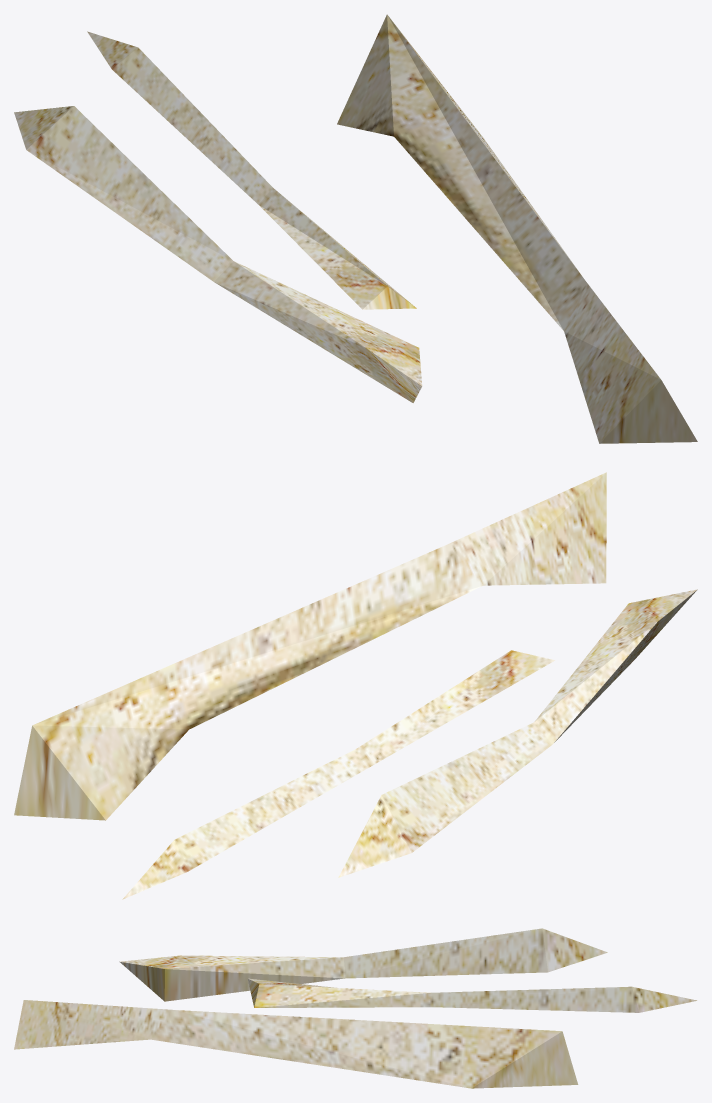
Rendered from poi_tato_skel_krayt_arm_s02_l2.fbx.
3 views of the same model, one above another, from view 1: azimuth 30°, elevation 25°; view 2: azimuth 150°, elevation 25°; view 3: azimuth 270°, elevation 25° (orthographic). The views are drawn at different scales.
Visible parts, largest first — view 1: mesh_node; view 2: mesh_node; view 3: mesh_node.
Boxes of the visible parts, <box> form: mesh_node: <box>14,14,697,443</box>; mesh_node: <box>14,472,697,899</box>; mesh_node: <box>14,928,696,1088</box>.
Size of the model in its own units: 1.75 by 0.4328 by 4.12.
1 material, 1 textured.
